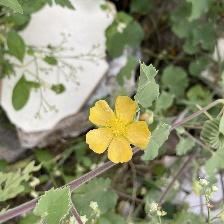indian mallow: (85, 95, 155, 168)
